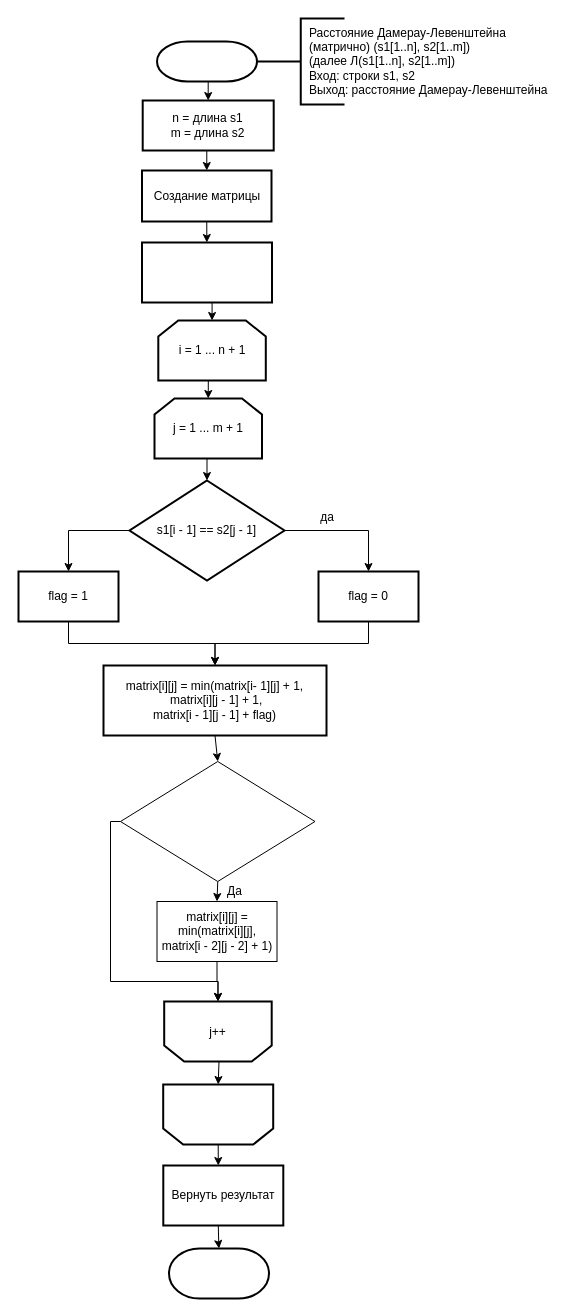
The diagram is 584 pixels wide and 1316 high, and some of its shapes have lost their labels. The box of each missing label's shape, as (x1, y1, x2, y2) in pixels:
i > 1 and j > 1 and str1[i - 1] == str2[j - 2] and str1[i - 2] == str2[j - 1]?: (120, 760, 315, 882)
i++: (162, 1083, 274, 1145)
Заполнение нулевой сторки и нулевого столбца матрицы: (140, 241, 272, 303)
Конец: (168, 1247, 270, 1299)
Начало: (156, 40, 258, 82)
